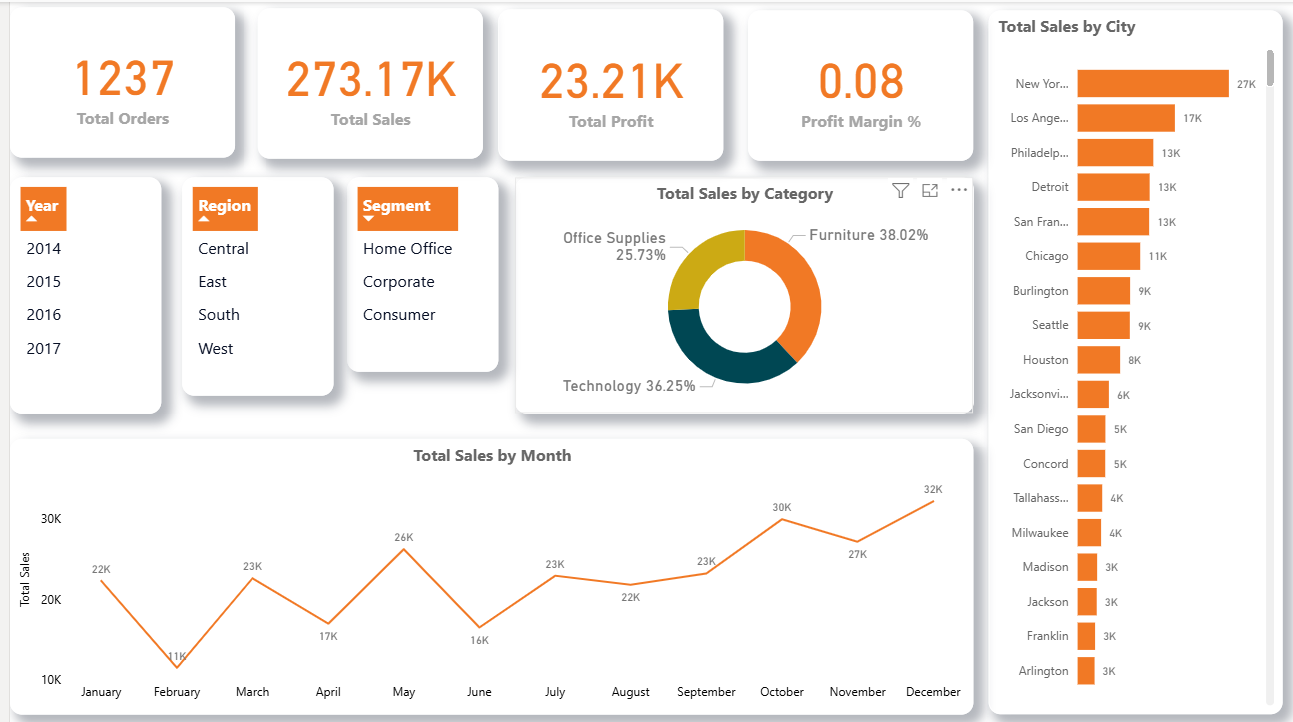

What the dashboard file says about the page in this screenshot:
{"tool":"powerbi","page":{"name":"Executive Overview","canvas":[1280,720],"ordinal":0},"visuals":[{"type":"card","fields":{"Values":["sales_data.Total Sales"]},"box":[246.2,6.4,223.6,149.4],"z":0},{"type":"card","fields":{"Values":["sales_data.Total Profit"]},"box":[485.9,7.5,223.6,150.5],"z":1000},{"type":"card","fields":{"Values":["sales_data.Total Orders"]},"box":[0,5.4,223.6,149.4],"z":2000},{"type":"card","fields":{"Values":["sales_data.Profit Margin %"]},"box":[734.2,8.6,223.6,149.4],"z":3000},{"type":"lineChart","fields":{"Category":["sales_data.Order Date.Variation.Date Hierarchy.Year","sales_data.Order Date.Variation.Date Hierarchy.Quarter","sales_data.Order Date.Variation.Date Hierarchy.Month"],"Y":["sales_data.Total Sales"]},"box":[0,434.3,957.7,274.1],"z":4000},{"type":"donutChart","fields":{"Category":["sales_data.Category"],"Y":["sales_data.Total Sales"]},"box":[502,174.1,455.8,235.4],"z":5000},{"type":"barChart","fields":{"Category":["sales_data.City"],"Y":["sales_data.Total Sales"]},"box":[972.8,8.6,292.4,699.8],"z":6000},{"type":"tableEx","fields":{"Values":["sales_data.Order Date.Variation.Date Hierarchy.Year"]},"box":[0,174.1,150.5,235.4],"z":7000},{"type":"tableEx","fields":{"Values":["sales_data.Segment"]},"box":[335.4,174.1,150.5,193.5],"z":8000},{"type":"tableEx","fields":{"Values":["sales_data.Region"]},"box":[170.9,174.1,150.5,217.1],"z":9000}]}

Visuals, with their boxes in screenshot pixels (x1, y1, x2, y2), scaled from the page's 1280x720 canvas onto the 1293x722 screenshot:
card - sales_data.Total Sales: (249,6,475,156)
card - sales_data.Total Profit: (491,8,717,158)
card - sales_data.Total Orders: (0,5,226,155)
card - sales_data.Profit Margin %: (742,9,968,158)
lineChart - sales_data.Order Date.Variation.Date Hierarchy.Year x sales_data.Order Date.Variation.Date Hierarchy.Quarter: (0,436,967,710)
donutChart - sales_data.Category x sales_data.Total Sales: (507,175,968,411)
barChart - sales_data.City x sales_data.Total Sales: (983,9,1278,710)
tableEx - sales_data.Order Date.Variation.Date Hierarchy.Year: (0,175,152,411)
tableEx - sales_data.Segment: (339,175,491,369)
tableEx - sales_data.Region: (173,175,325,392)
